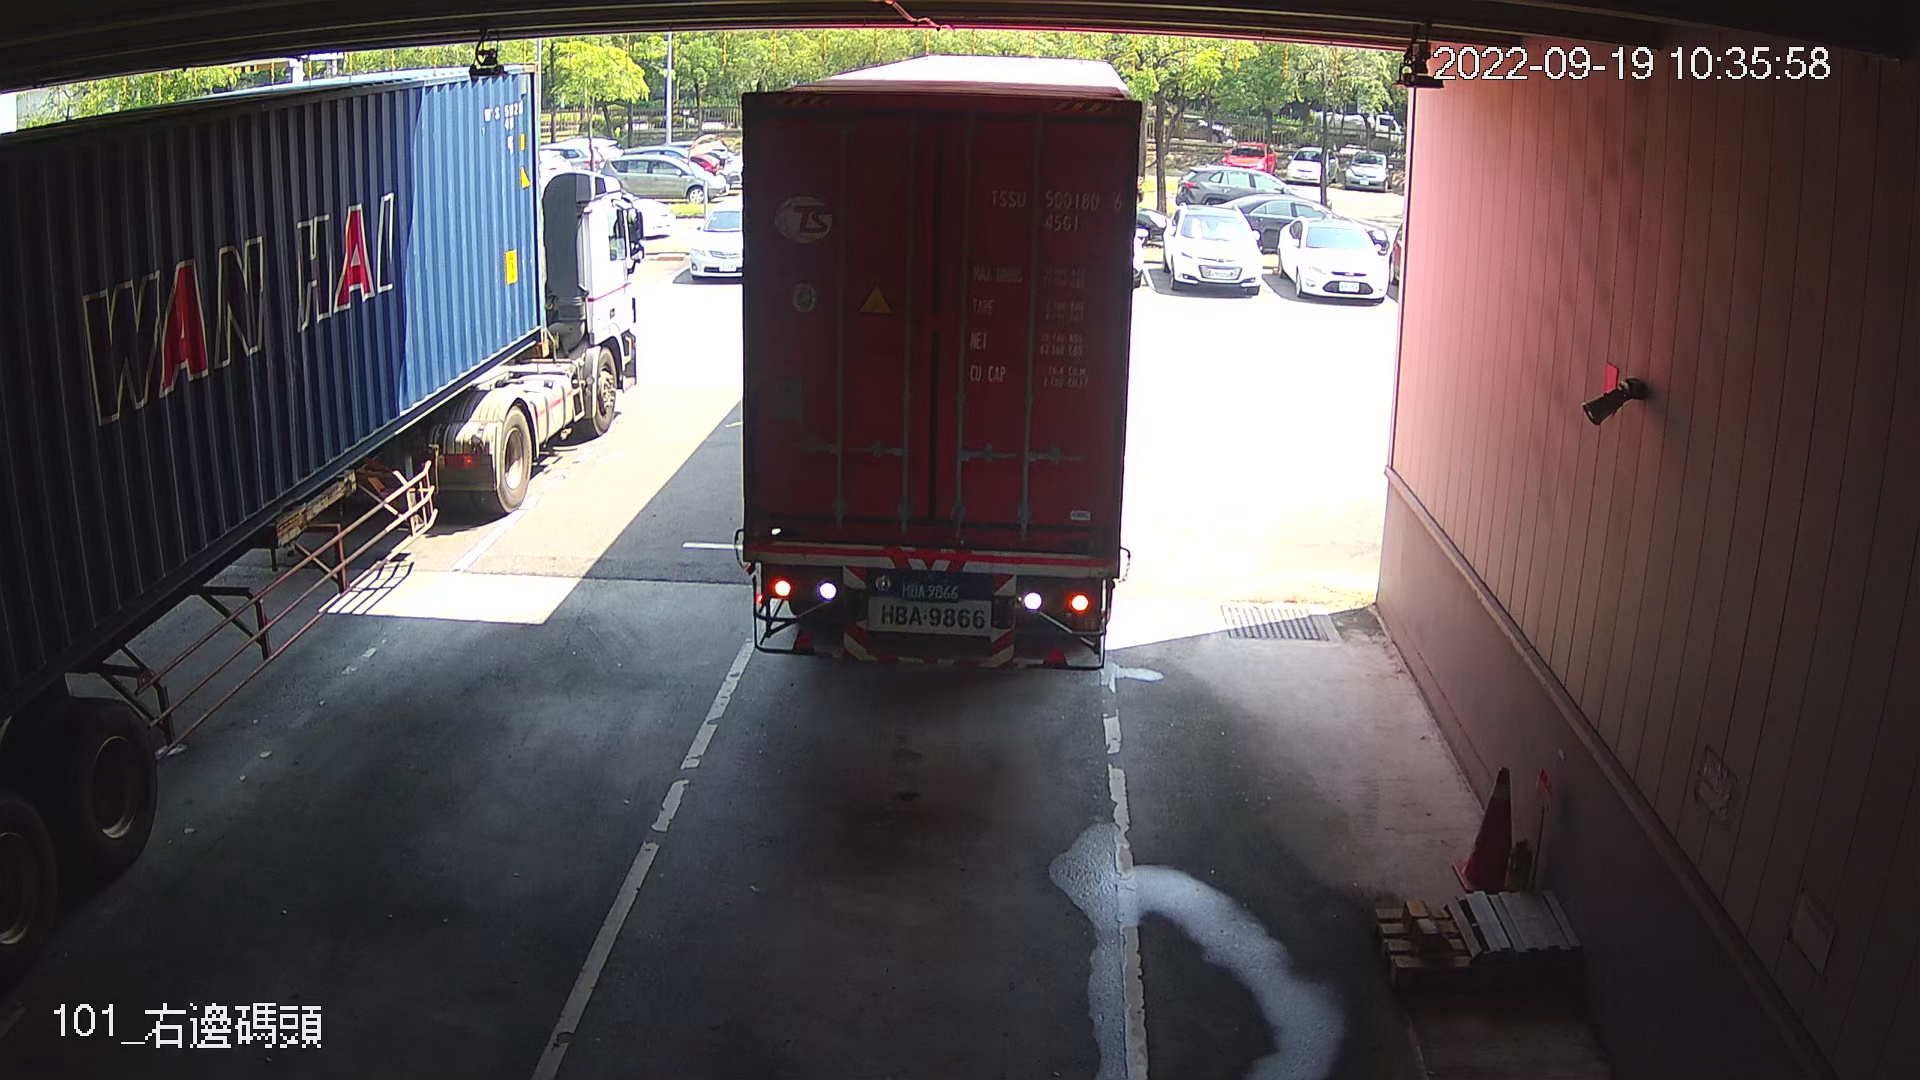container: (981, 175, 1131, 240)
